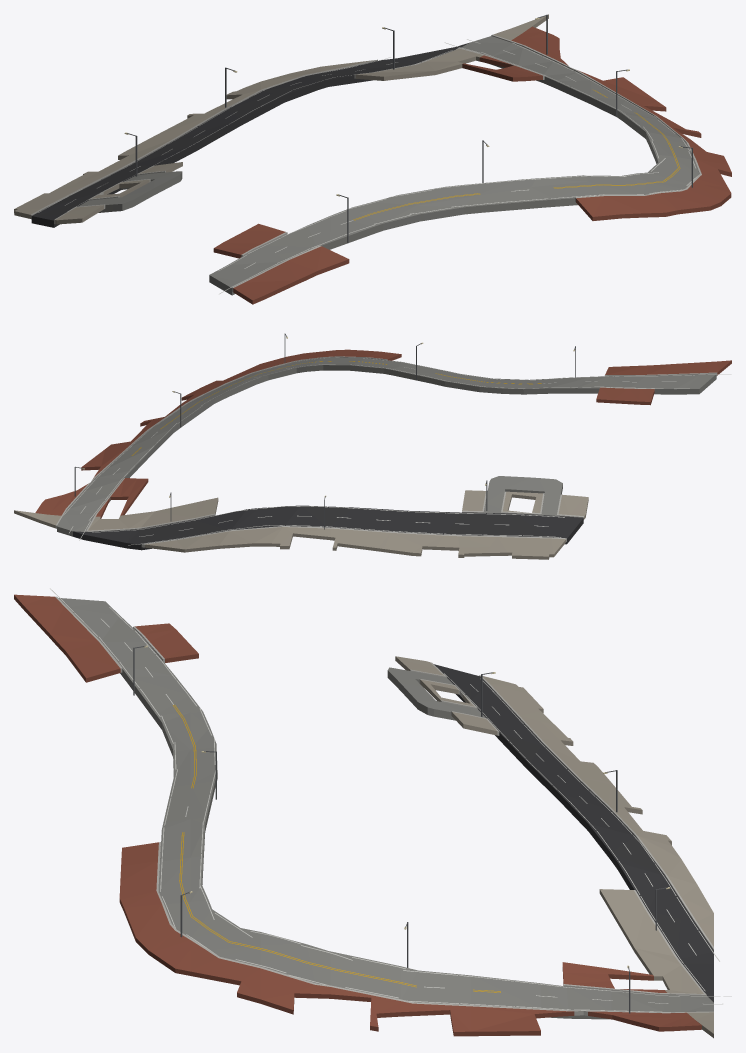
The picture shows the model from 3 angles, top to bottom: view 1: azimuth 30°, elevation 25°; view 2: azimuth 150°, elevation 25°; view 3: azimuth 270°, elevation 25°; orthographic projection. The views are drawn at different scales.
Size of the model in its own units: 112 by 25.12 by 102.
